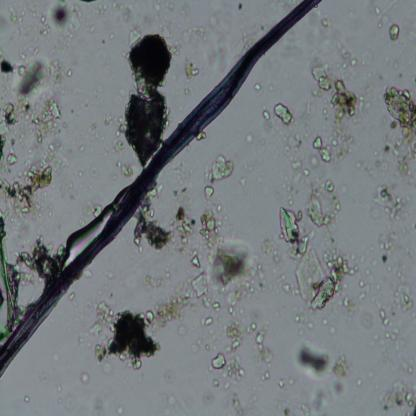Background material: (168, 198, 260, 314), (277, 167, 350, 306), (121, 24, 172, 165), (305, 62, 357, 170), (87, 299, 161, 372), (376, 76, 416, 183), (205, 319, 248, 415), (0, 166, 57, 221), (374, 180, 409, 266), (14, 238, 65, 288), (136, 196, 174, 253), (312, 356, 350, 412), (157, 279, 197, 325), (342, 268, 375, 318), (294, 340, 334, 380), (13, 59, 49, 100), (204, 151, 235, 198), (379, 376, 416, 413), (30, 98, 63, 138), (253, 324, 273, 380), (377, 306, 401, 347), (282, 134, 306, 172), (393, 280, 415, 314), (48, 58, 72, 86), (36, 138, 57, 170), (293, 310, 318, 336), (49, 1, 73, 28), (178, 26, 206, 46), (3, 102, 20, 128), (274, 104, 295, 125), (0, 54, 19, 76), (36, 12, 50, 41), (82, 199, 102, 217), (115, 158, 133, 178), (183, 60, 199, 81), (386, 22, 402, 42), (0, 122, 7, 160), (6, 151, 20, 168), (261, 237, 273, 256), (322, 12, 332, 28), (243, 132, 254, 146), (67, 289, 77, 304), (252, 79, 262, 91), (80, 373, 90, 384), (262, 110, 270, 122), (23, 392, 31, 403)
Cellulose filter fibre: (0, 219, 22, 330)
Cotton: (0, 0, 321, 374)
